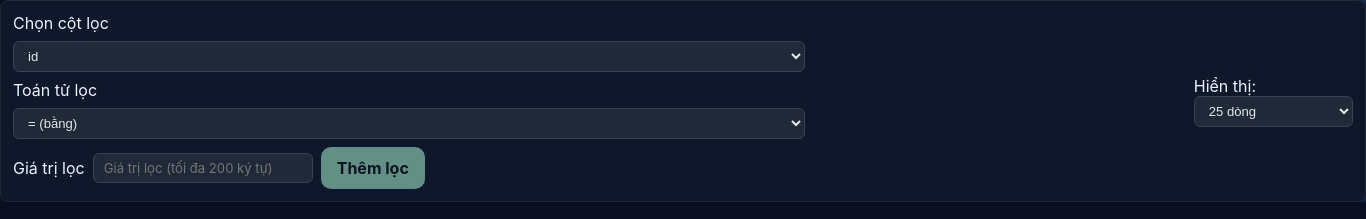
FilterBar component › disables value input when operator is is_null or is_not_null
The width and height of the screenshot is (1366, 219).
Select "email" in the dropdown labelled "Chọn cột lọc" at (409, 56), box [13, 41, 805, 72]
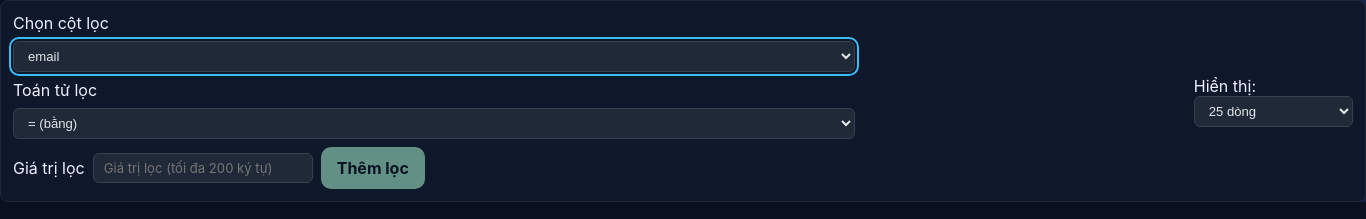
Select "là NULL" in the dropdown labelled "Toán tử lọc" at (434, 124), box [13, 108, 855, 139]
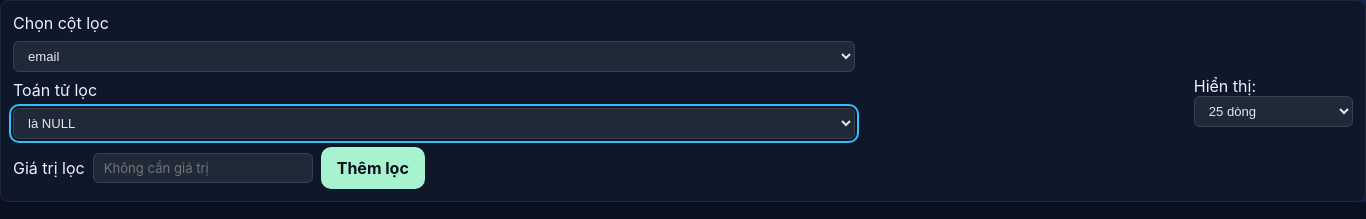
Check: the field with placeholder "Không cần giá trị" is disabled, box [93, 153, 313, 183]
